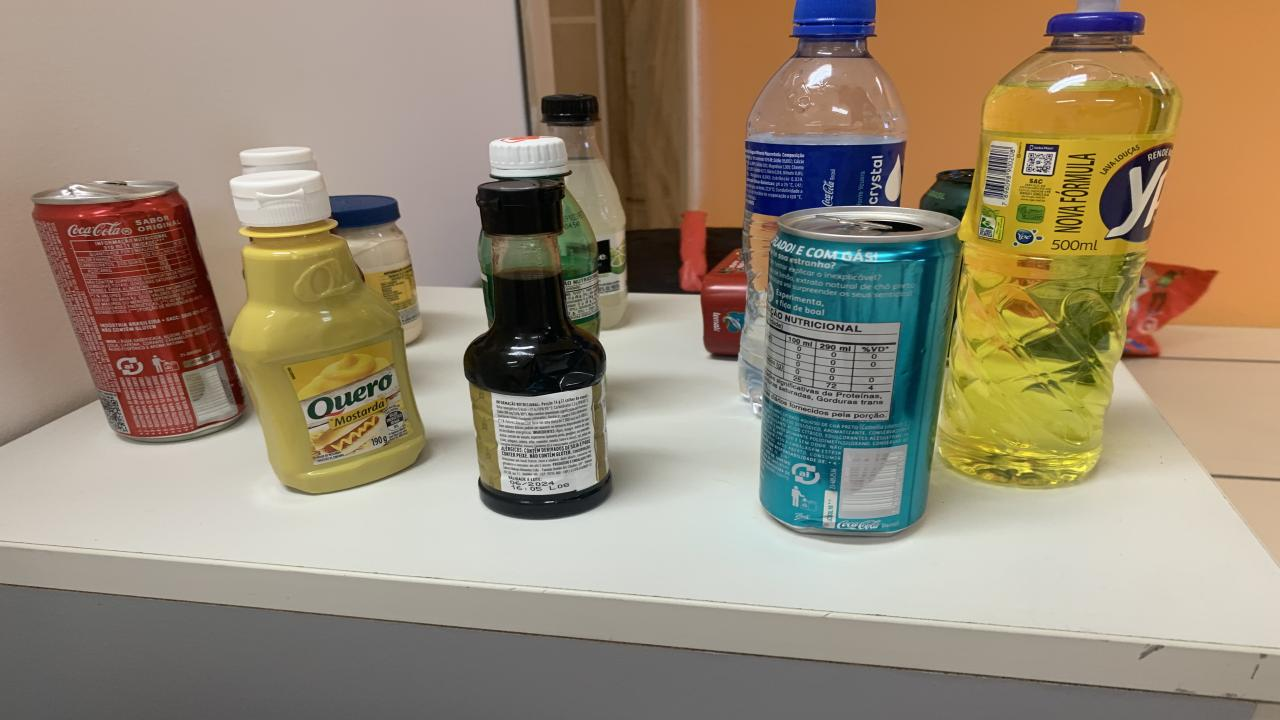Coke-Drinks: (32, 182, 245, 441)
Detergent-Cleanup_Items: (938, 0, 1182, 488)
English_Sauce-Pantry_Items: (465, 180, 610, 518)
Guarana-Drinks: (558, 191, 600, 336), (490, 137, 570, 184), (478, 234, 492, 321)
Guarana_Can-Drinks: (920, 169, 975, 219)
Ketchup-Pantry_Items: (240, 146, 318, 174)
Mayonnaise-Pantry_Items: (330, 195, 422, 343)
Mustard-Pantry_Items: (230, 172, 425, 493)
Soda-Drinks: (542, 94, 628, 328)
Tea-Drinks: (760, 206, 960, 536)
Tuna_Can-Pantry_Items: (700, 249, 748, 356)
Water_Bottle-Drinks: (738, 0, 908, 412)
